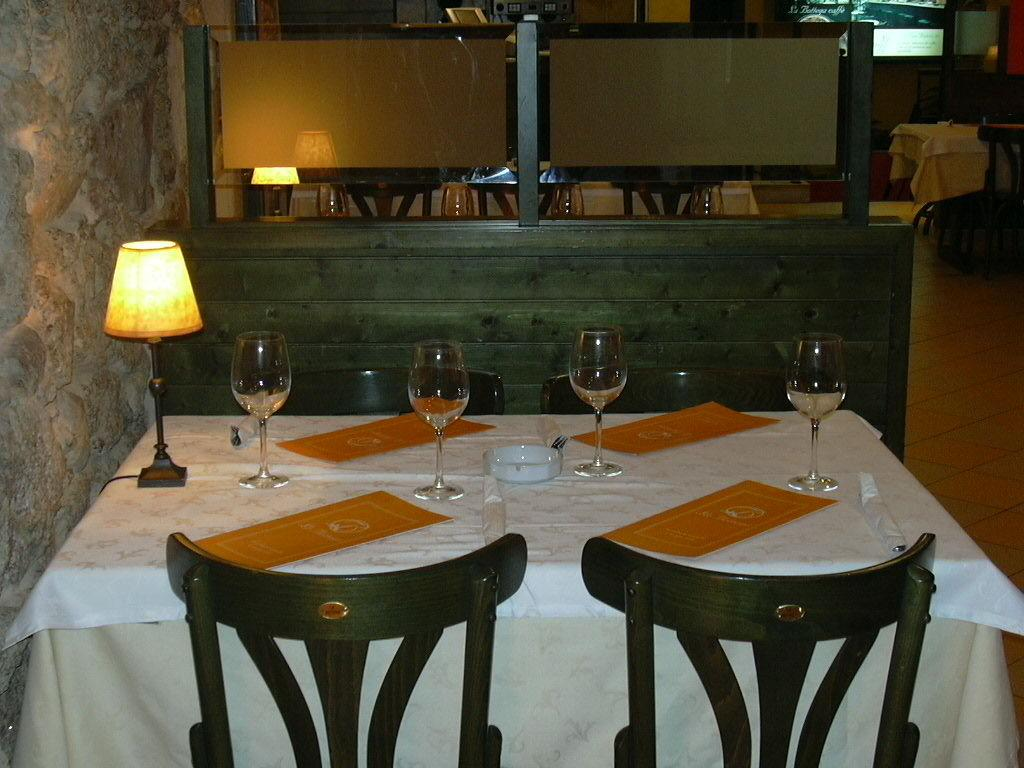Chair: (165, 529, 527, 767), (580, 530, 936, 767)
